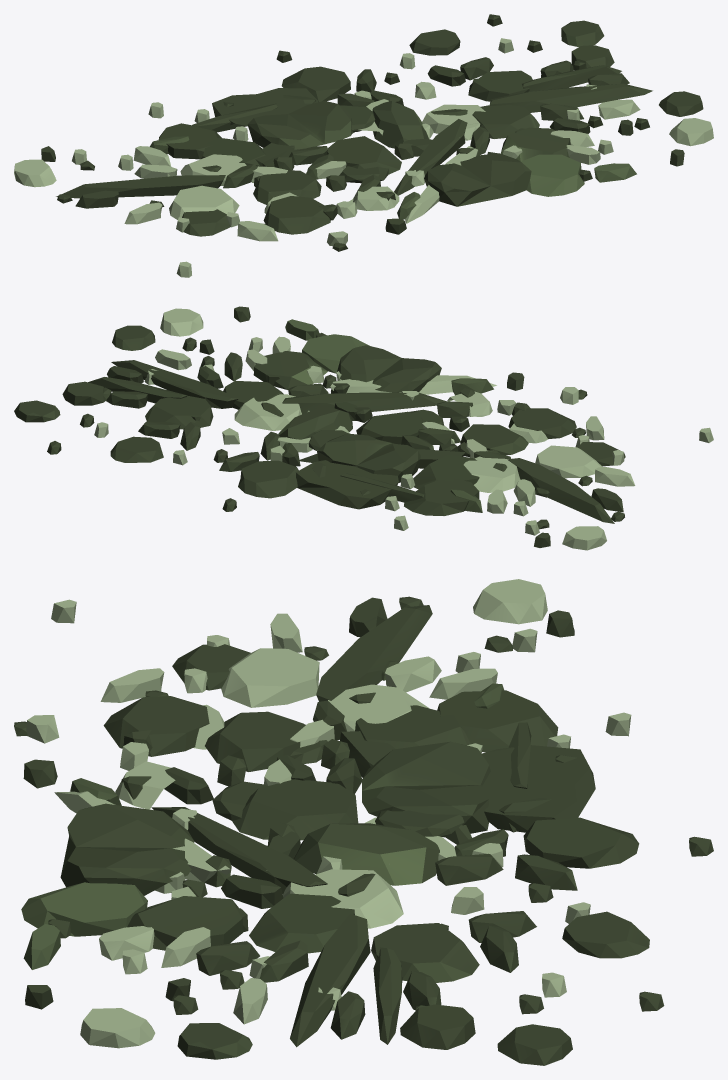
File: EA_Swamp_StonesMud_04a.glb
3 views of the same model, one above another, from view 1: azimuth 30°, elevation 25°; view 2: azimuth 150°, elevation 25°; view 3: azimuth 270°, elevation 25° (orthographic). The views are drawn at different scales.
Parts seen in each view (by area): view 1: EA_Swamp_StonesMud_04a; view 2: EA_Swamp_StonesMud_04a; view 3: EA_Swamp_StonesMud_04a.
Boxes of the visible parts, x1=… form: EA_Swamp_StonesMud_04a: x1=14, y1=14, x2=713, y2=277; EA_Swamp_StonesMud_04a: x1=14, y1=306, x2=713, y2=550; EA_Swamp_StonesMud_04a: x1=14, y1=579, x2=713, y2=1065.
Size of the model in its own units: 9.11 by 0.2982 by 5.72.
1 material, 1 textured.
